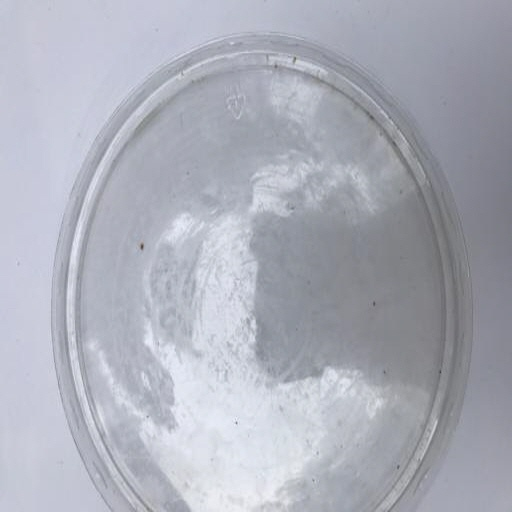Plastic_5: (52, 30, 473, 512)
